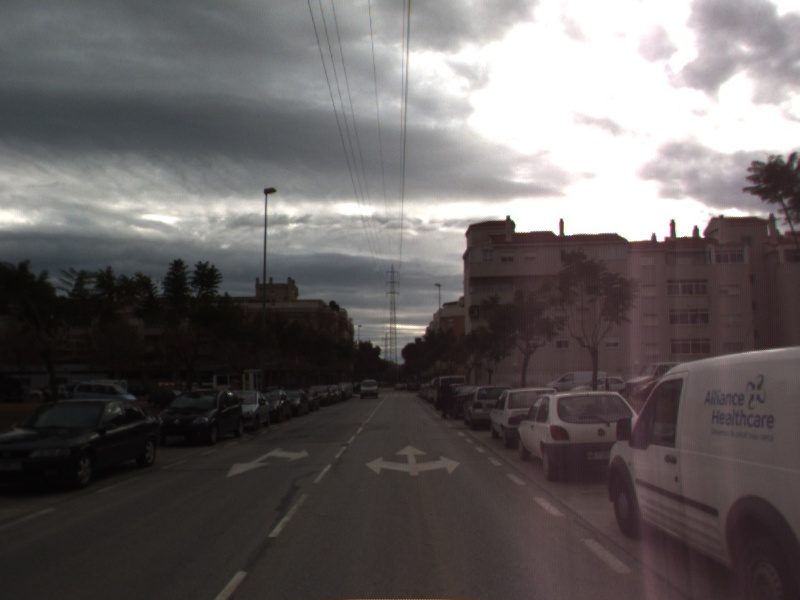STRAIGHT_LEFT_RIGHT: (363, 442, 463, 478)
